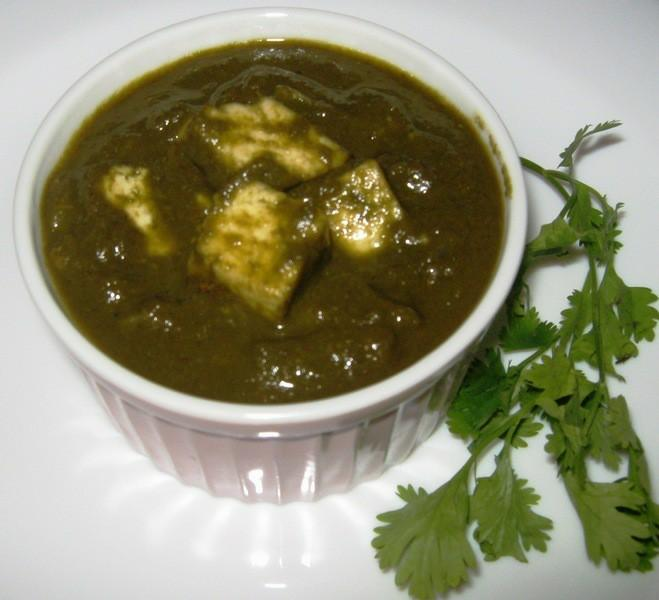PalakPaneer: (39, 33, 503, 403)
